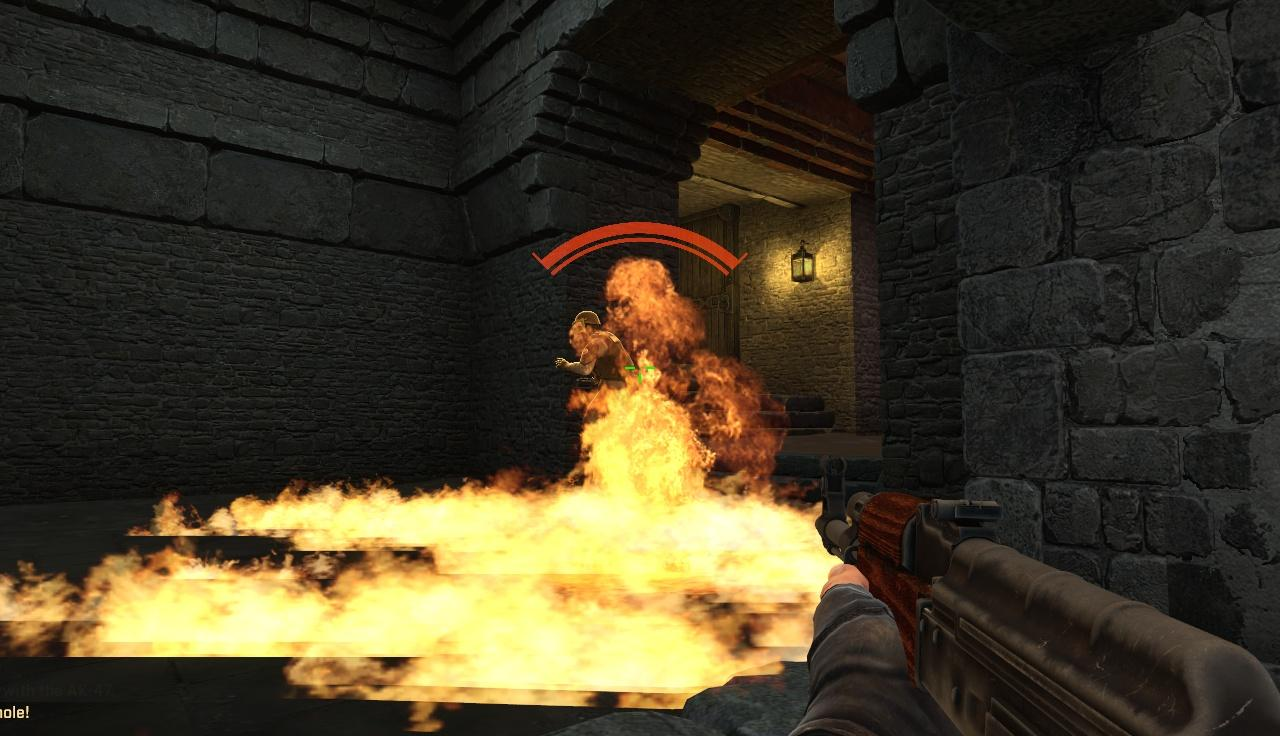ct: (567, 308, 631, 387)
rifle: (812, 465, 1280, 736)
